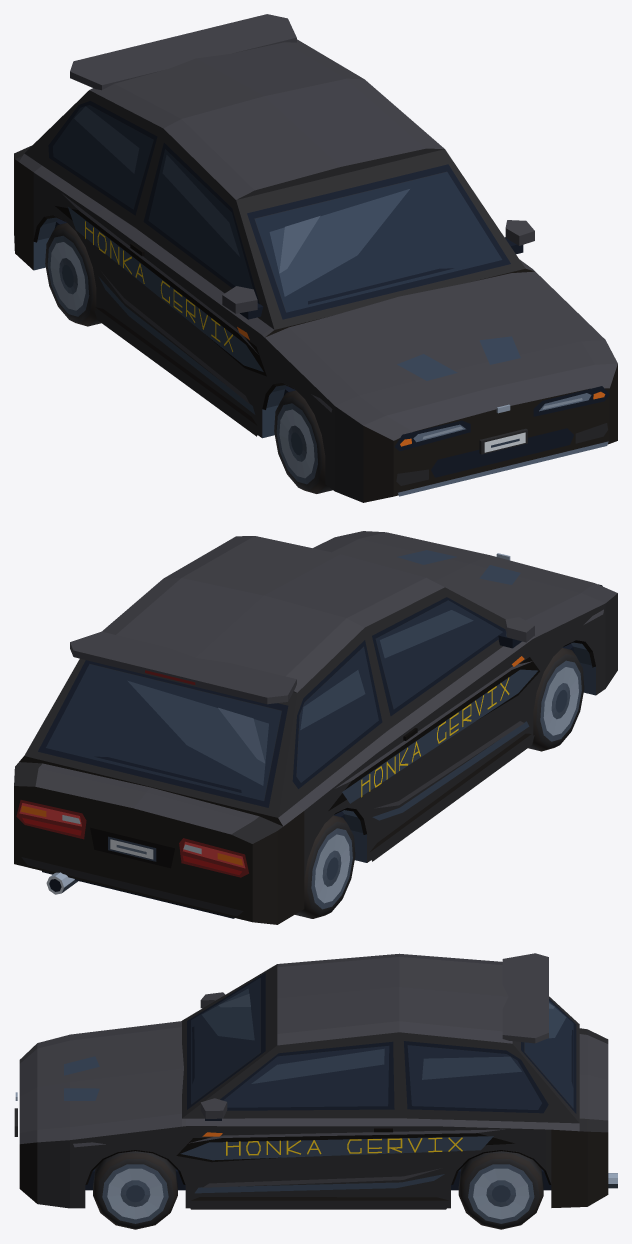
Rendered from sedan-black.glb.
3 renders of one model, top to bottom at view 1: azimuth 30°, elevation 25°; view 2: azimuth 150°, elevation 25°; view 3: azimuth 270°, elevation 25°, orthographic. The views are drawn at different scales.
Parts seen in each view (by area): view 1: Honka Cervix - Black Hatchback; view 2: Honka Cervix - Black Hatchback; view 3: Honka Cervix - Black Hatchback.
Part boxes in pixels (x1=…): Honka Cervix - Black Hatchback: x1=14, y1=14, x2=617, y2=502; Honka Cervix - Black Hatchback: x1=14, y1=531, x2=617, y2=924; Honka Cervix - Black Hatchback: x1=14, y1=953, x2=617, y2=1229.
Bounding box in the file's own units: 1.89 × 1.44 × 4.06.
1 material, 1 textured.
